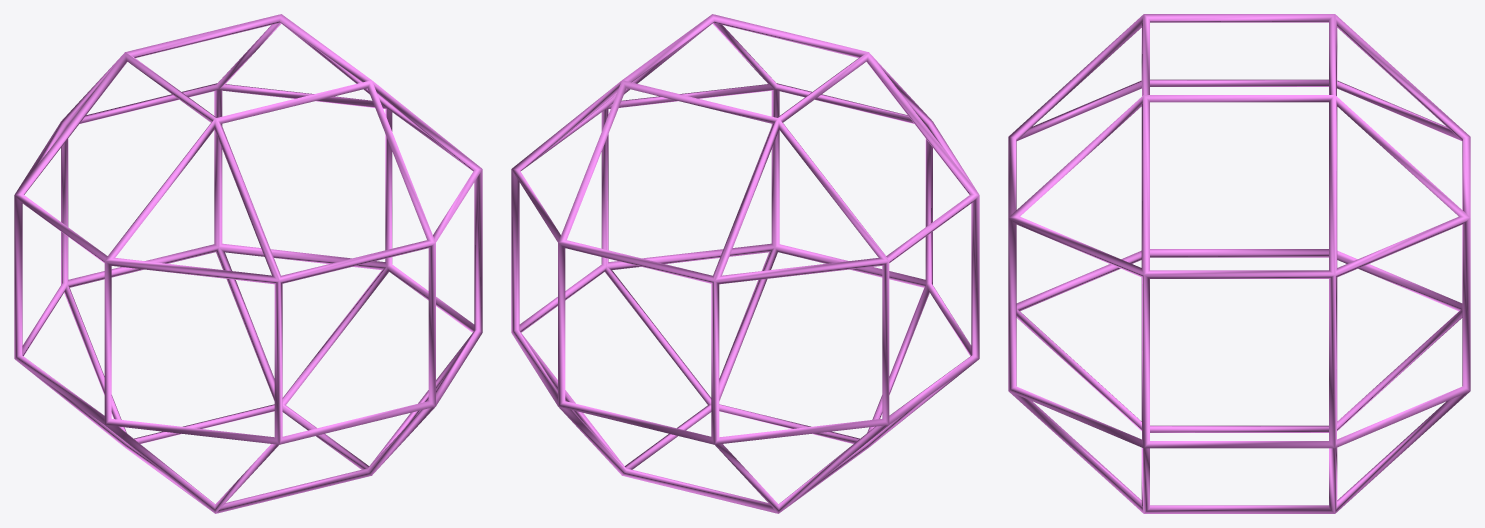
Rendered from Rhombicuboctahedron1.glb.
The picture shows the model from 3 angles, left to right: view 1: azimuth 30°, elevation 25°; view 2: azimuth 150°, elevation 25°; view 3: azimuth 270°, elevation 25°; orthographic projection. The views are drawn at different scales.
Visible parts, largest first — view 1: Rhombicuboctahedron; view 2: Rhombicuboctahedron; view 3: Rhombicuboctahedron.
Part boxes in pixels (x1=…): Rhombicuboctahedron: x1=14, y1=14, x2=482, y2=513; Rhombicuboctahedron: x1=511, y1=14, x2=979, y2=513; Rhombicuboctahedron: x1=1008, y1=14, x2=1470, y2=513.
Bounding box in the file's own units: 2.46 × 2.46 × 2.46.
